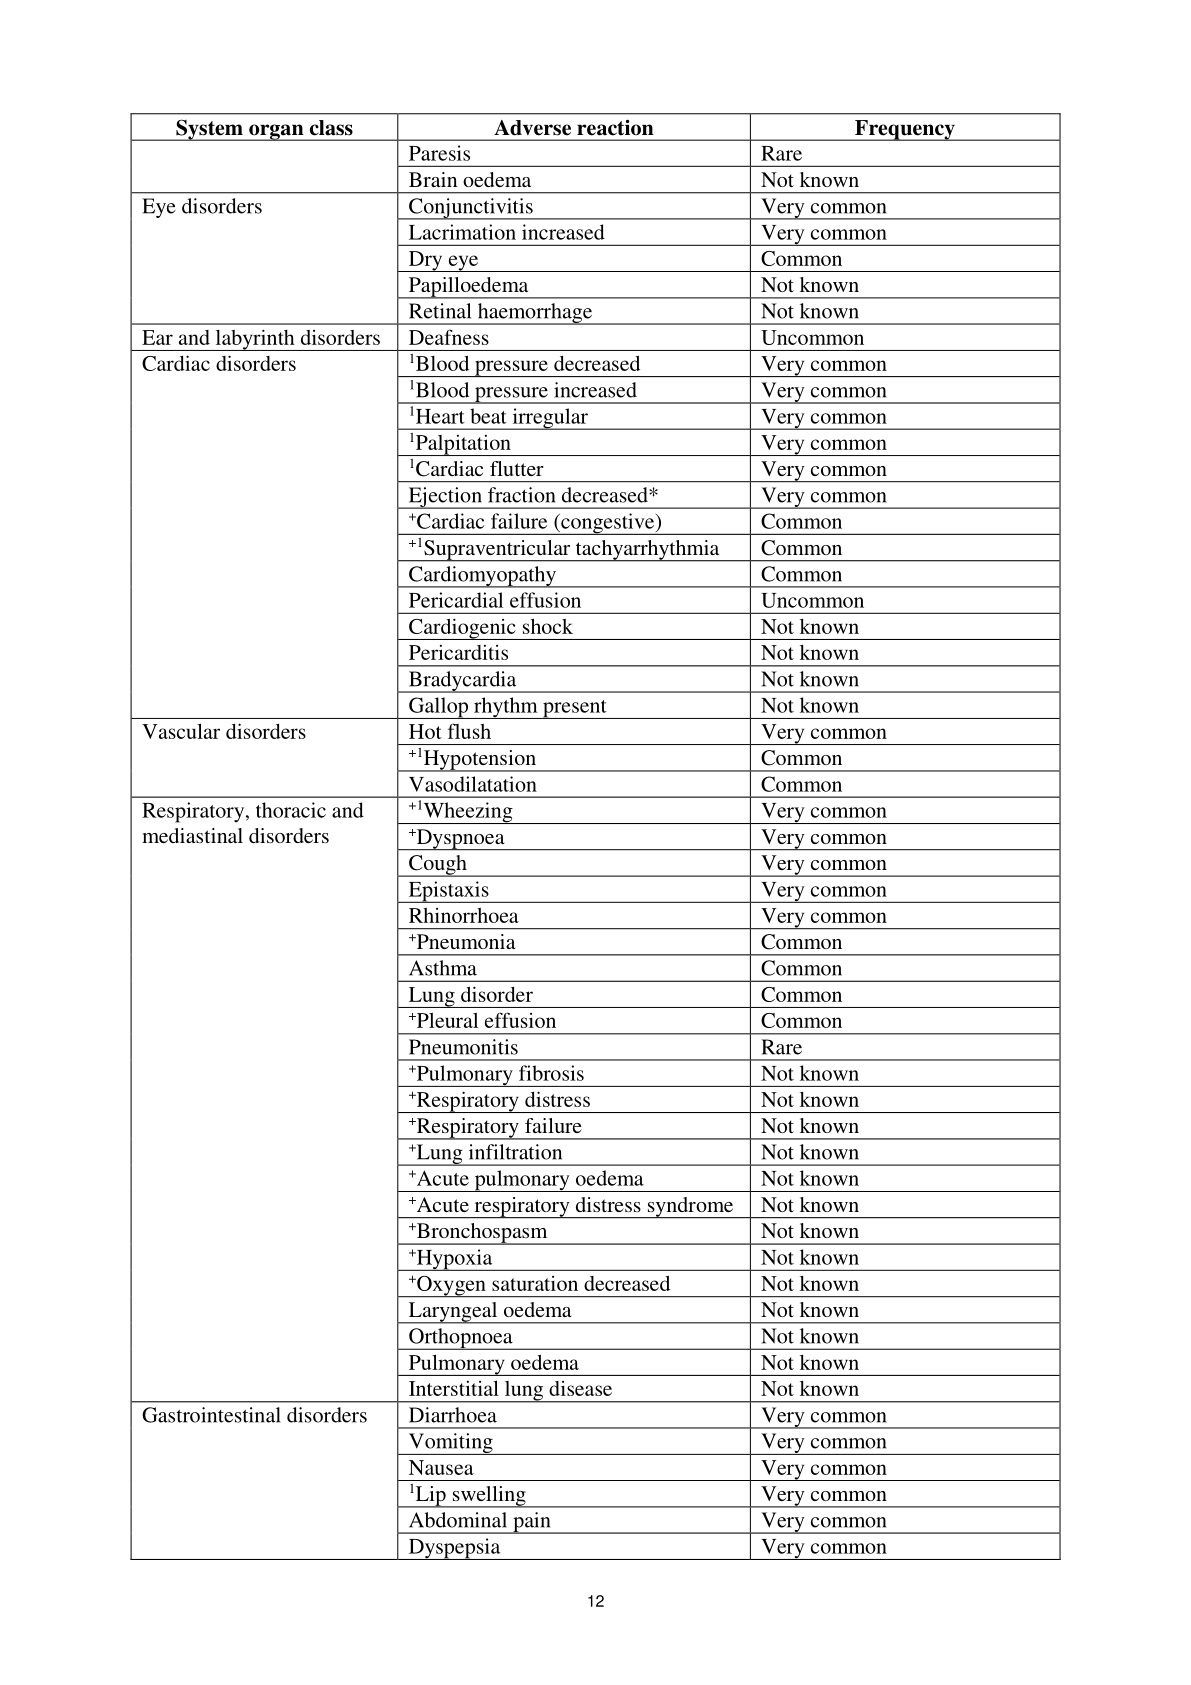merged_cells: (130, 112, 1062, 1560)
